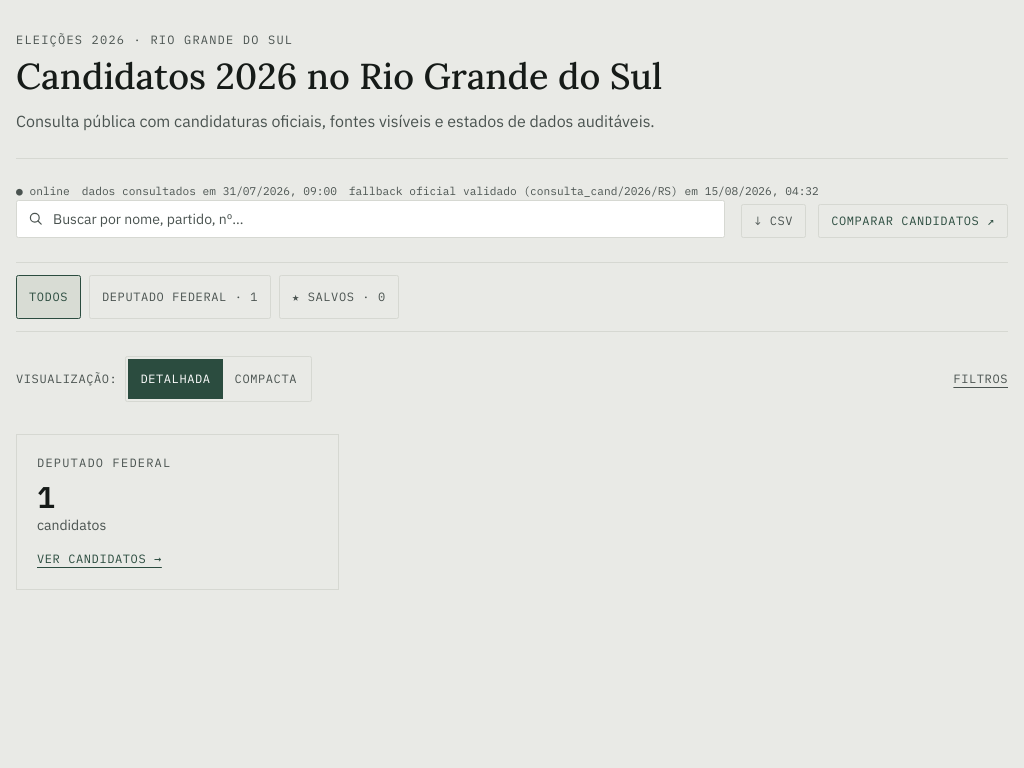
Test: HomePage estados honestos H5.2 › fallback de snapshot identifica origem e mantém candidatos navegáveis
Check: the text "fallback oficial validado" is shown, box [349, 184, 517, 198]
Click the button "Deputado Federal · 1" at point(180, 297), box [89, 275, 271, 319]
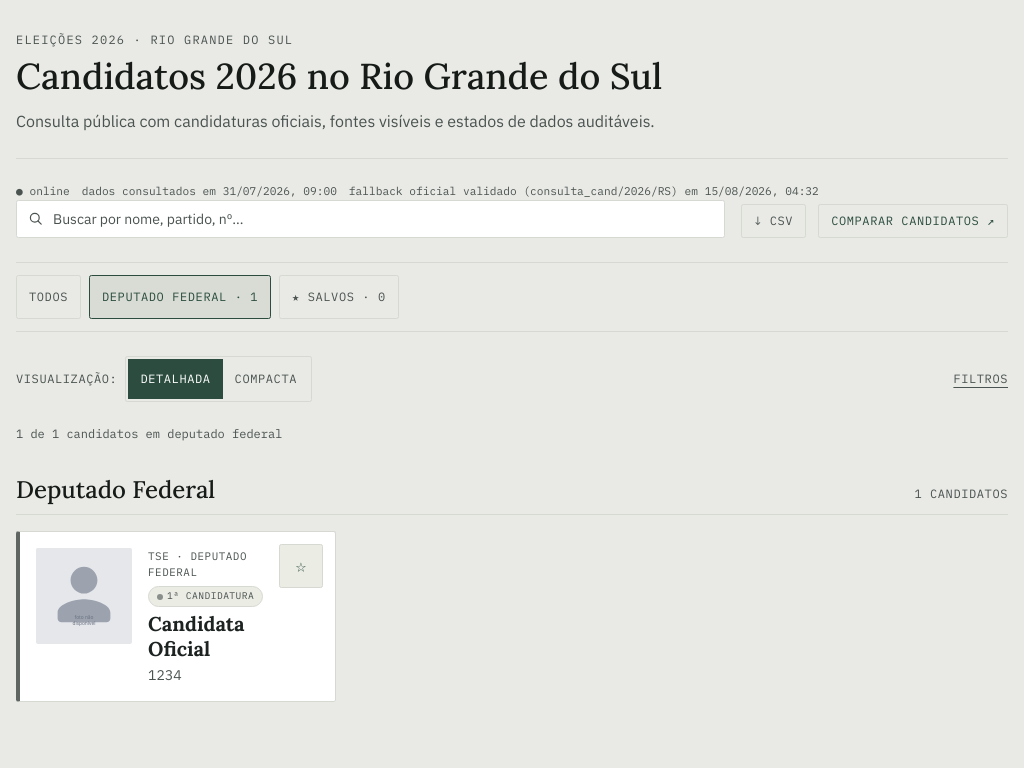
Check: the heading "Candidata Oficial" is shown, box [148, 611, 244, 661]
